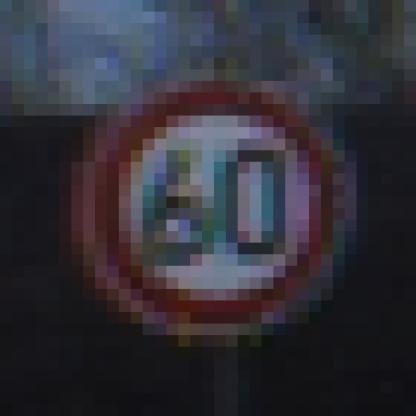Speed Limit 60: (87, 82, 344, 331)
